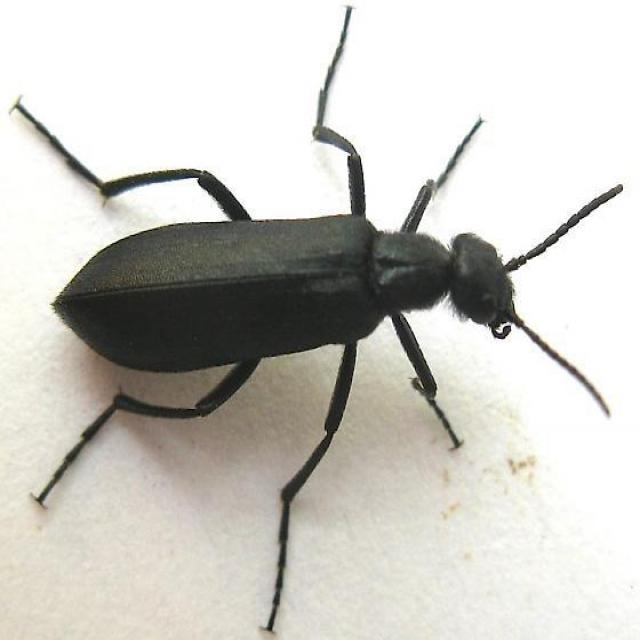BlisterBeetle-Adult-: (20, 22, 612, 505)
